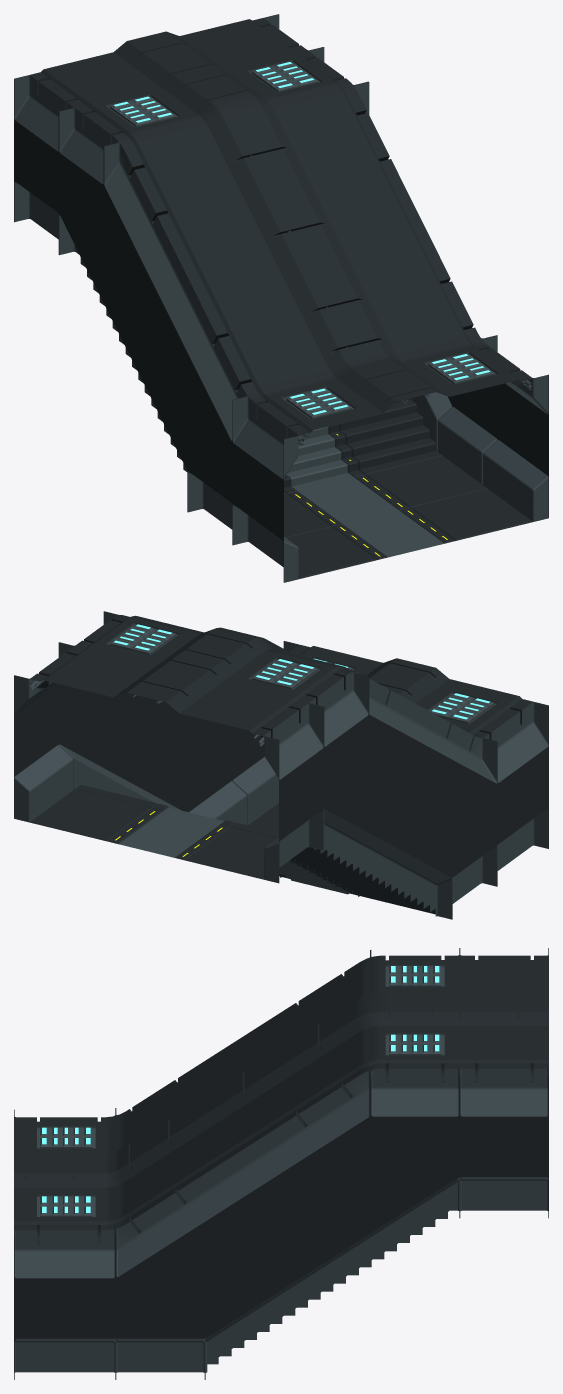
File: hallwayStairs01.fbx
3 views of the same model, one above another, from view 1: azimuth 30°, elevation 25°; view 2: azimuth 150°, elevation 25°; view 3: azimuth 270°, elevation 25° (orthographic).
Parts seen in each view (by area): view 1: hallwayStairs01; view 2: hallwayStairs01; view 3: hallwayStairs01.
Part boxes in pixels (x1,y1,x2,y2): hallwayStairs01: (14, 14, 548, 582); hallwayStairs01: (14, 611, 548, 919); hallwayStairs01: (14, 948, 548, 1379).
Size of what is drawn, in the model's own units: 6.8 by 12 by 7.77.
